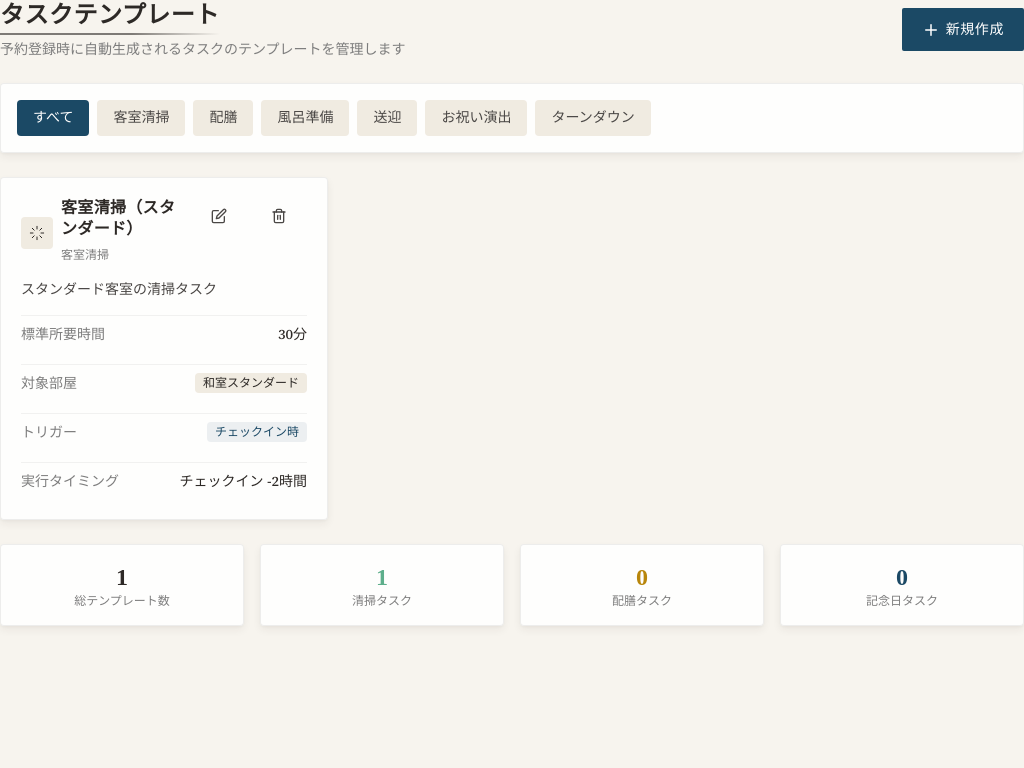
Test: TemplateFormの共通Modal移行 › 編集TemplateFormが共通Modalのrole=dialogを持つ
Click the button named "編集" at (219, 216), box [191,198,247,234]
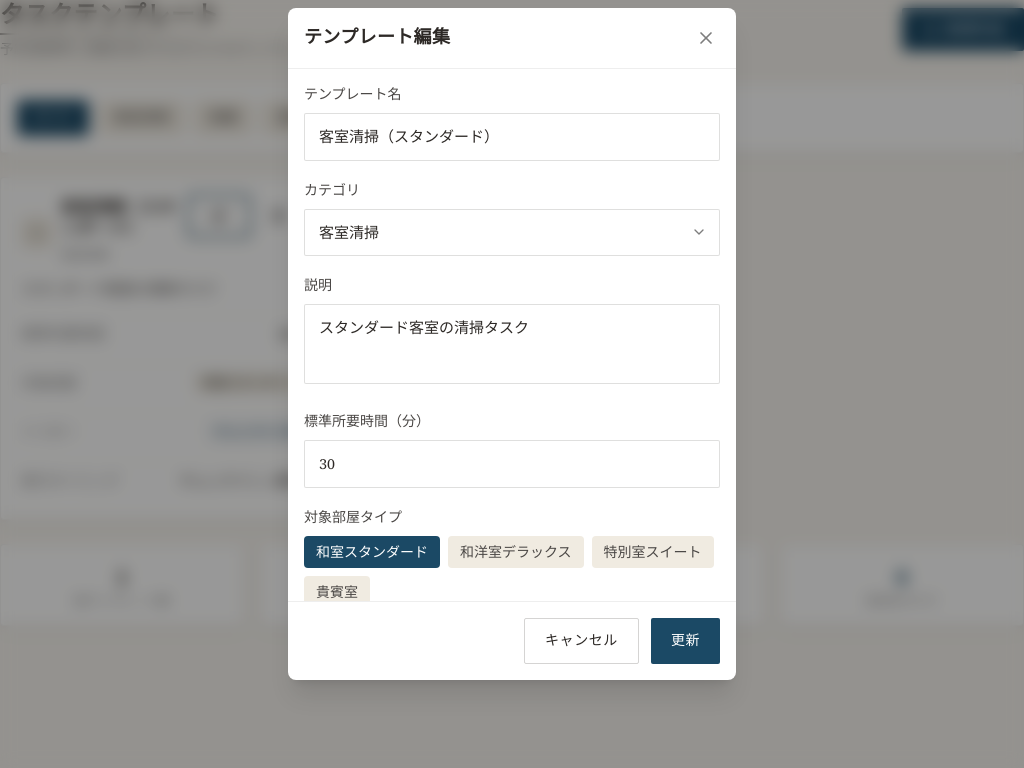
Check: the dialog is shown, box [288,8,736,680]
Check: the heading "テンプレート編集" is shown, box [304,26,450,50]
